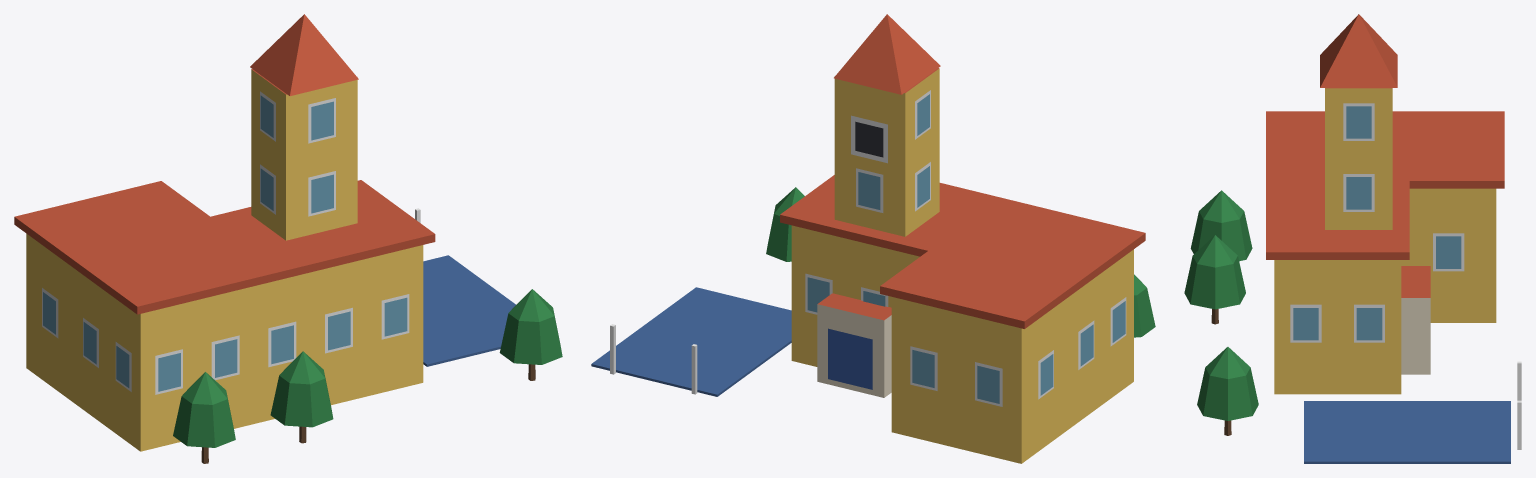
File: Svc_school.fbx
3 views of the same model, side by side, from view 1: azimuth 30°, elevation 25°; view 2: azimuth 150°, elevation 25°; view 3: azimuth 270°, elevation 25° (orthographic). The views are drawn at different scales.
Parts seen in each view (by area): view 1: Svc_school_LOD0; view 2: Svc_school_LOD0; view 3: Svc_school_LOD0.
Part boxes in pixels (left/top/right/bottom): Svc_school_LOD0: left=14, top=14, right=562, bottom=463; Svc_school_LOD0: left=591, top=14, right=1155, bottom=463; Svc_school_LOD0: left=1184, top=14, right=1521, bottom=463.
Size of what is drawn, in the model's own units: 2320 by 1800 by 1596.
1 material, 1 textured.
